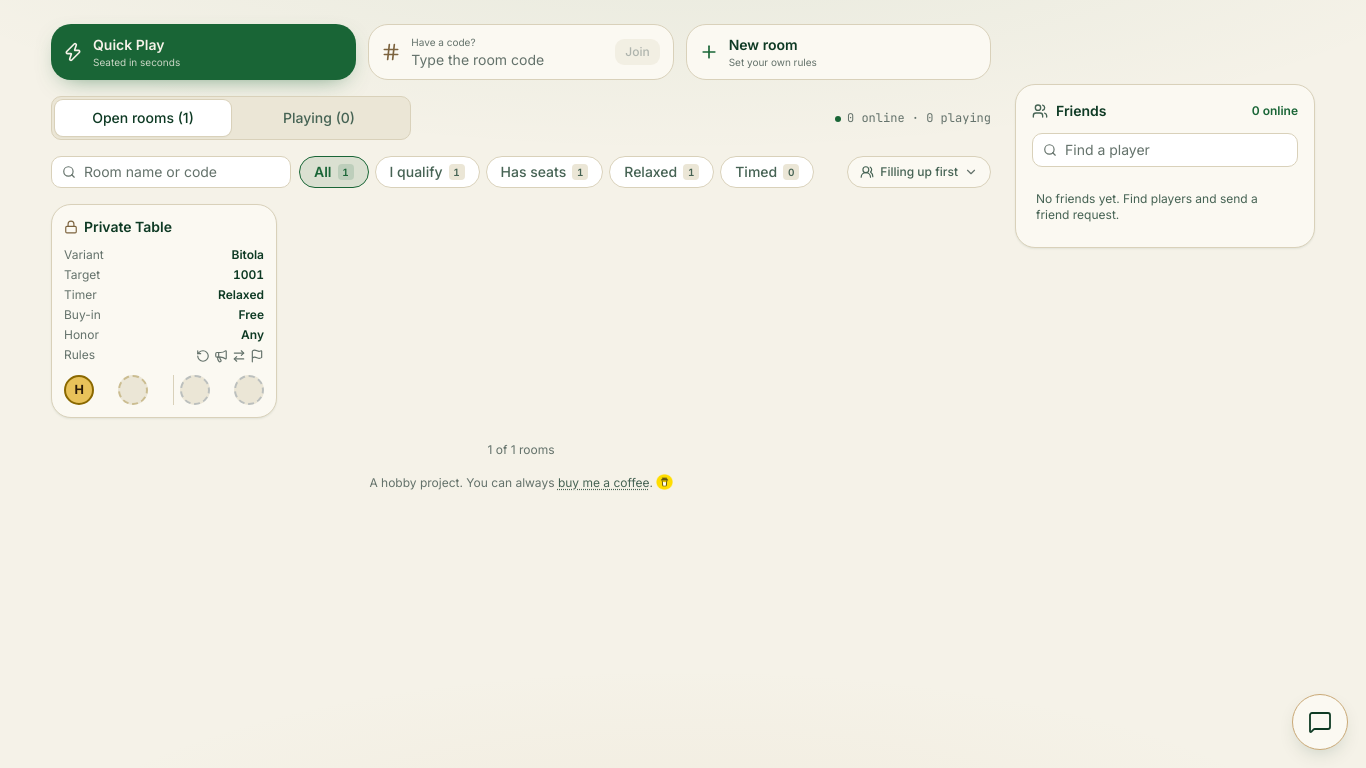
Test case: LobbyPage › keeps the password dialog open and shows an error on a wrong password
Click the button with test id "room-card-join": click(164, 311) [52,205,276,417]
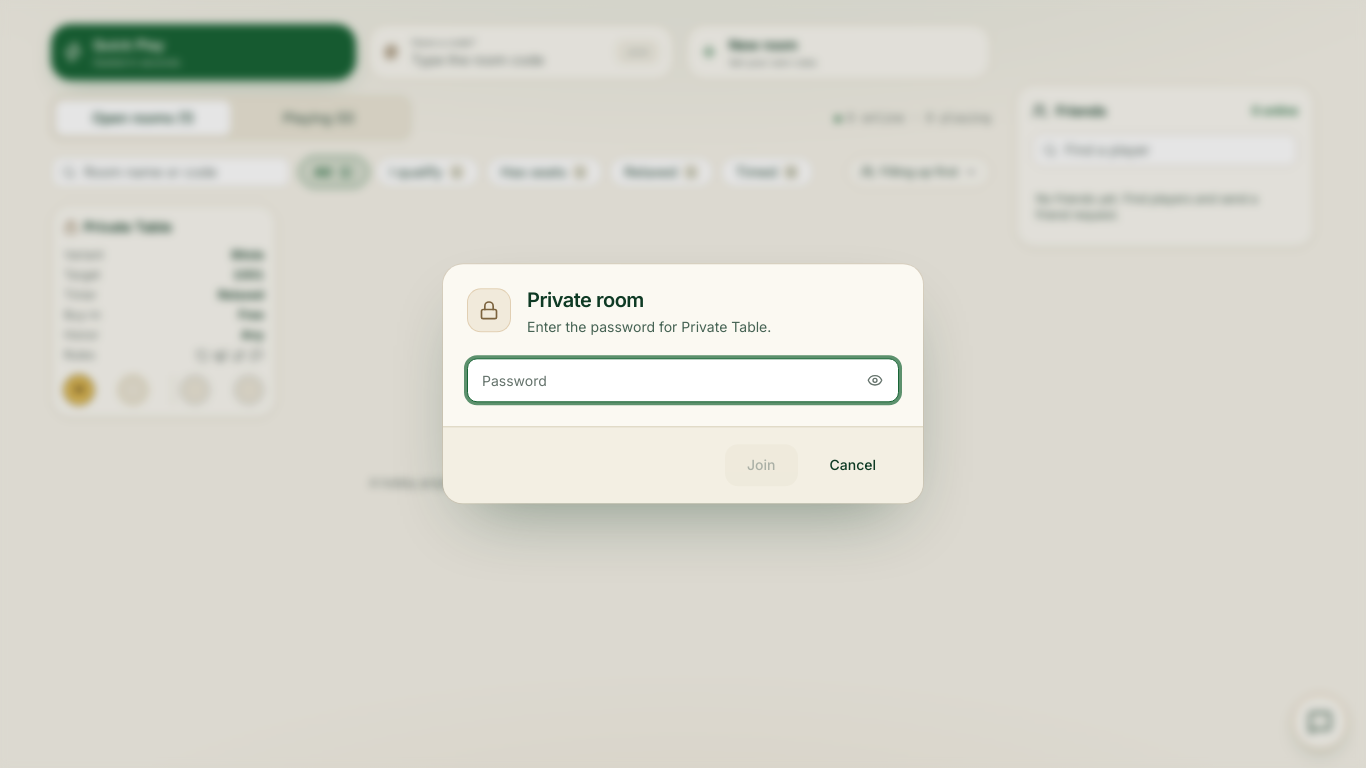
In the password field with test id "password-prompt-input": (683, 381) [467,359,899,403], type "nope"
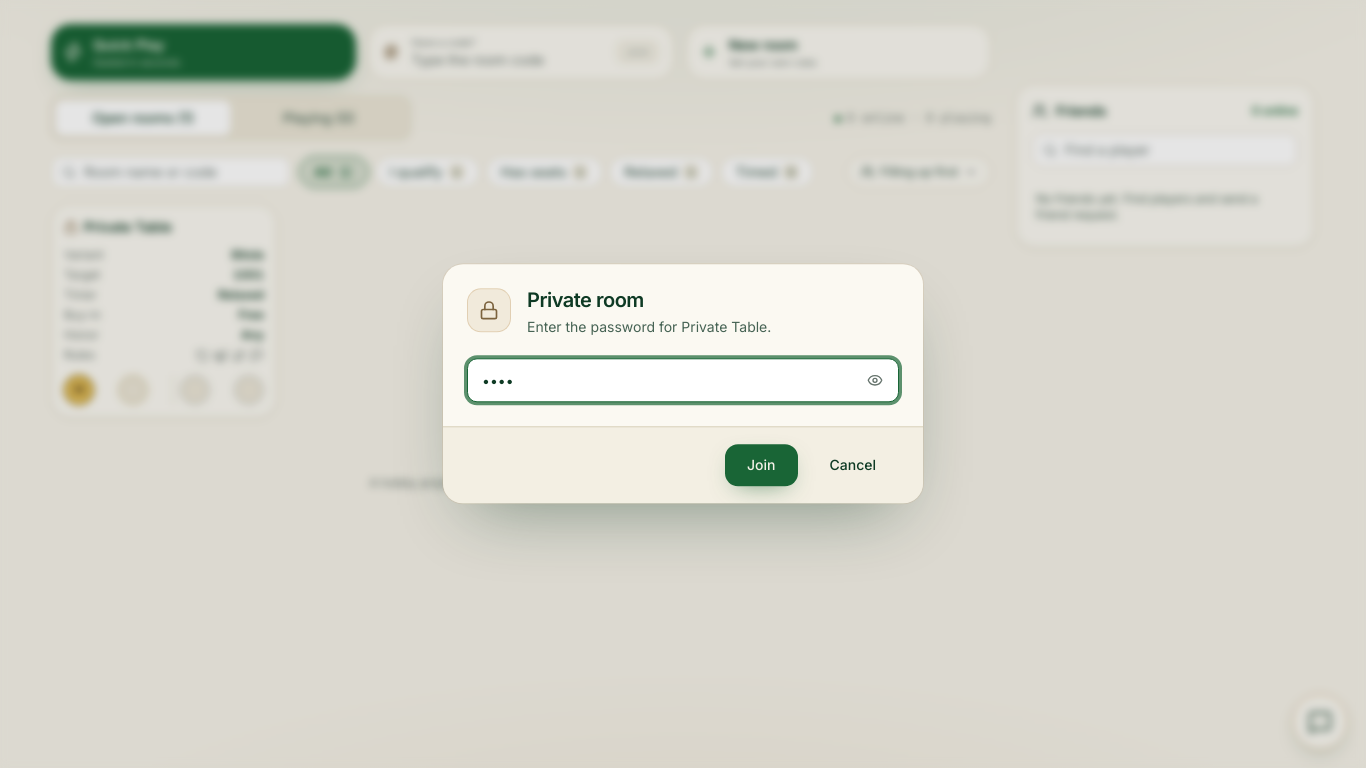
Click the button with test id "password-prompt-submit": click(761, 466) [724,444,798,488]
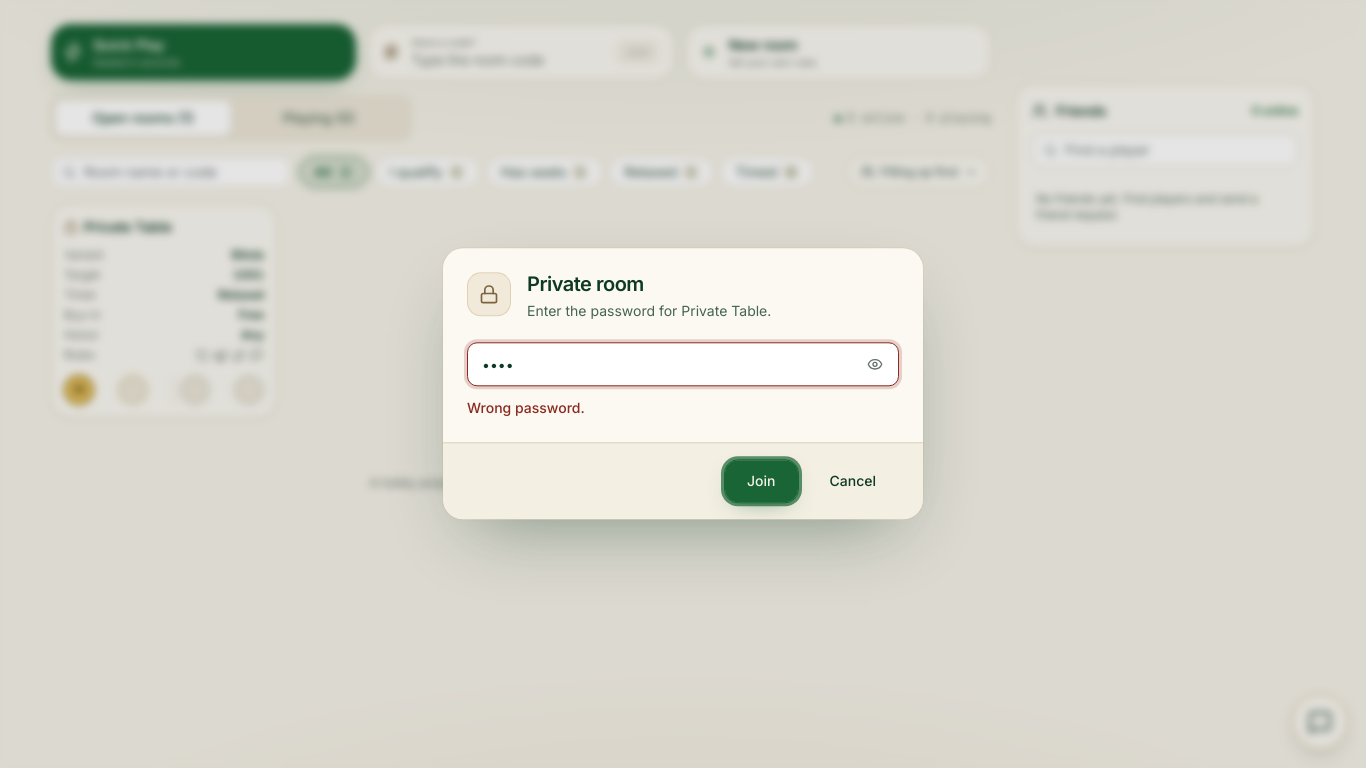
Expected: the dialog with test id "password-prompt-dialog" is shown, [443,248,923,520]
Expected: the message "Wrong password." is shown, [467,400,585,417]
